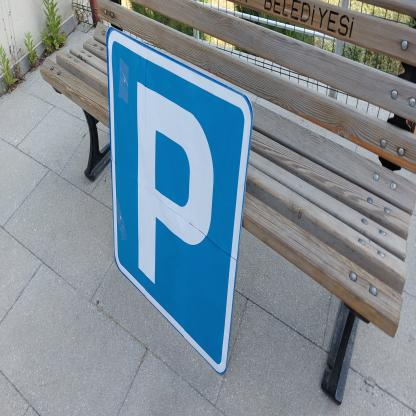Parking-Sign: (107, 29, 255, 377)
